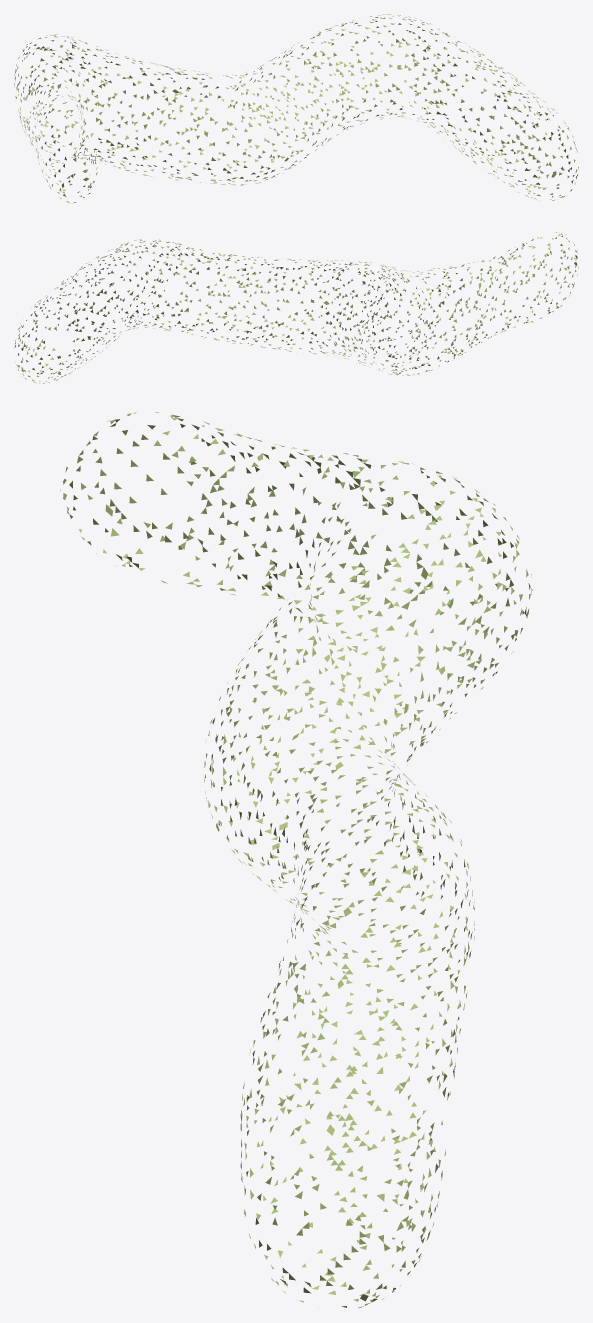
The model's file is morph_011.glb.
3 renders of one model, top to bottom at view 1: azimuth 30°, elevation 25°; view 2: azimuth 150°, elevation 25°; view 3: azimuth 270°, elevation 25°, orthographic. The views are drawn at different scales.
Size of the model in its own units: 104 by 44.64 by 43.04.
